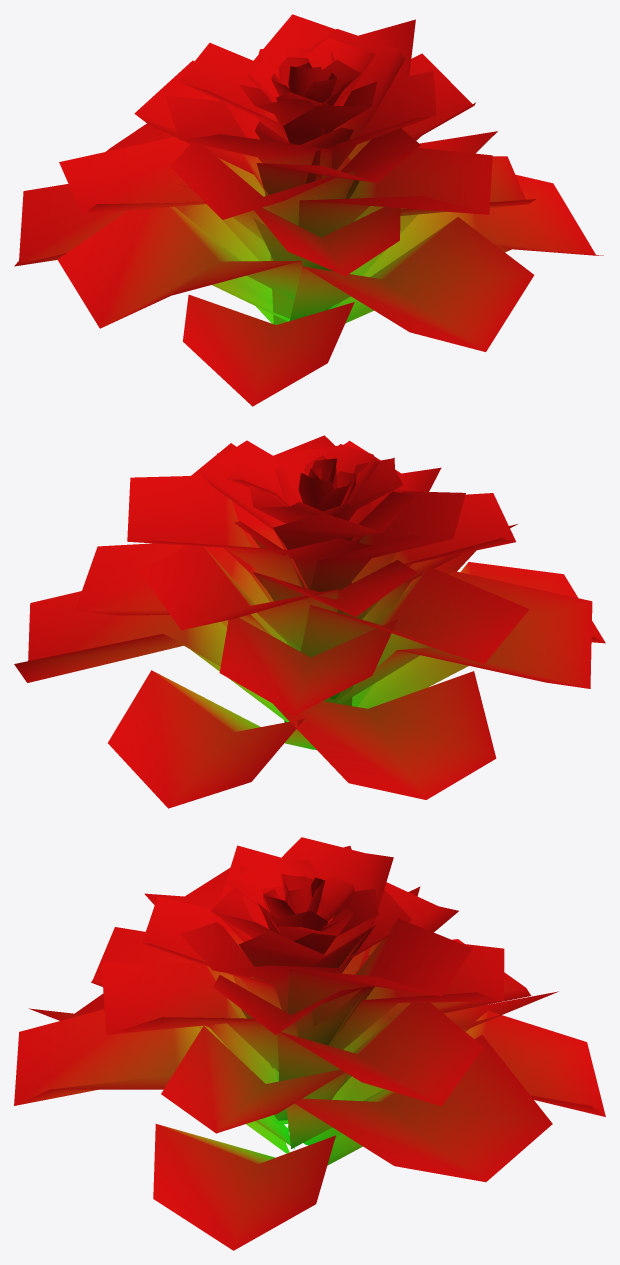
File: White Ornamental Kale_LOD5_Var1_ue3ldcgja.fbx
The picture shows the model from 3 angles, top to bottom: view 1: azimuth 30°, elevation 25°; view 2: azimuth 150°, elevation 25°; view 3: azimuth 270°, elevation 25°; orthographic projection. The views are drawn at different scales.
Parts seen in each view (by area): view 1: _b3cd_Var1_LOD5; view 2: _b3cd_Var1_LOD5; view 3: _b3cd_Var1_LOD5.
Boxes of the visible parts, bbox=[...] form: _b3cd_Var1_LOD5: bbox=[14, 14, 603, 406]; _b3cd_Var1_LOD5: bbox=[14, 435, 605, 808]; _b3cd_Var1_LOD5: bbox=[14, 837, 605, 1250].
Size of the model in its own units: 80.37 by 43.51 by 80.77.
